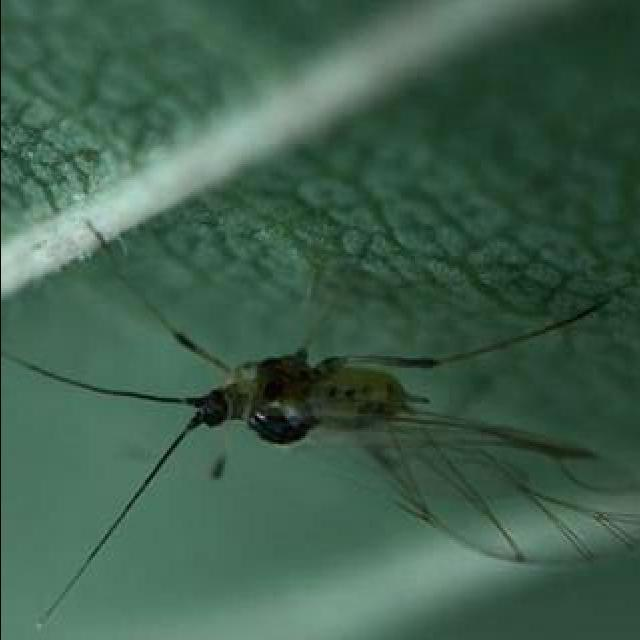aphid: (75, 314, 632, 574)
